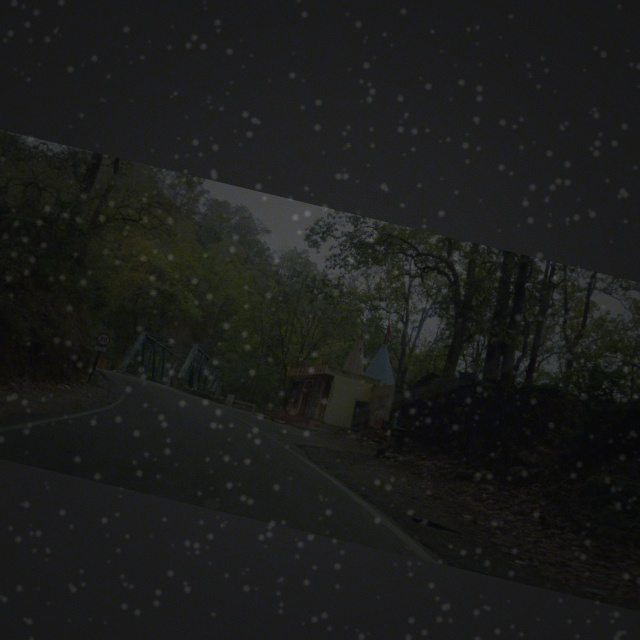Speed_Limit_20: (94, 328, 115, 350)
